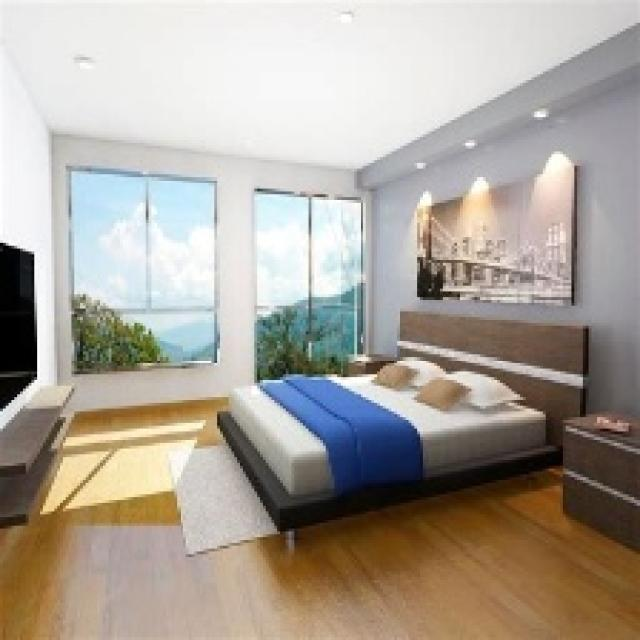Bed: (214, 308, 589, 546)
